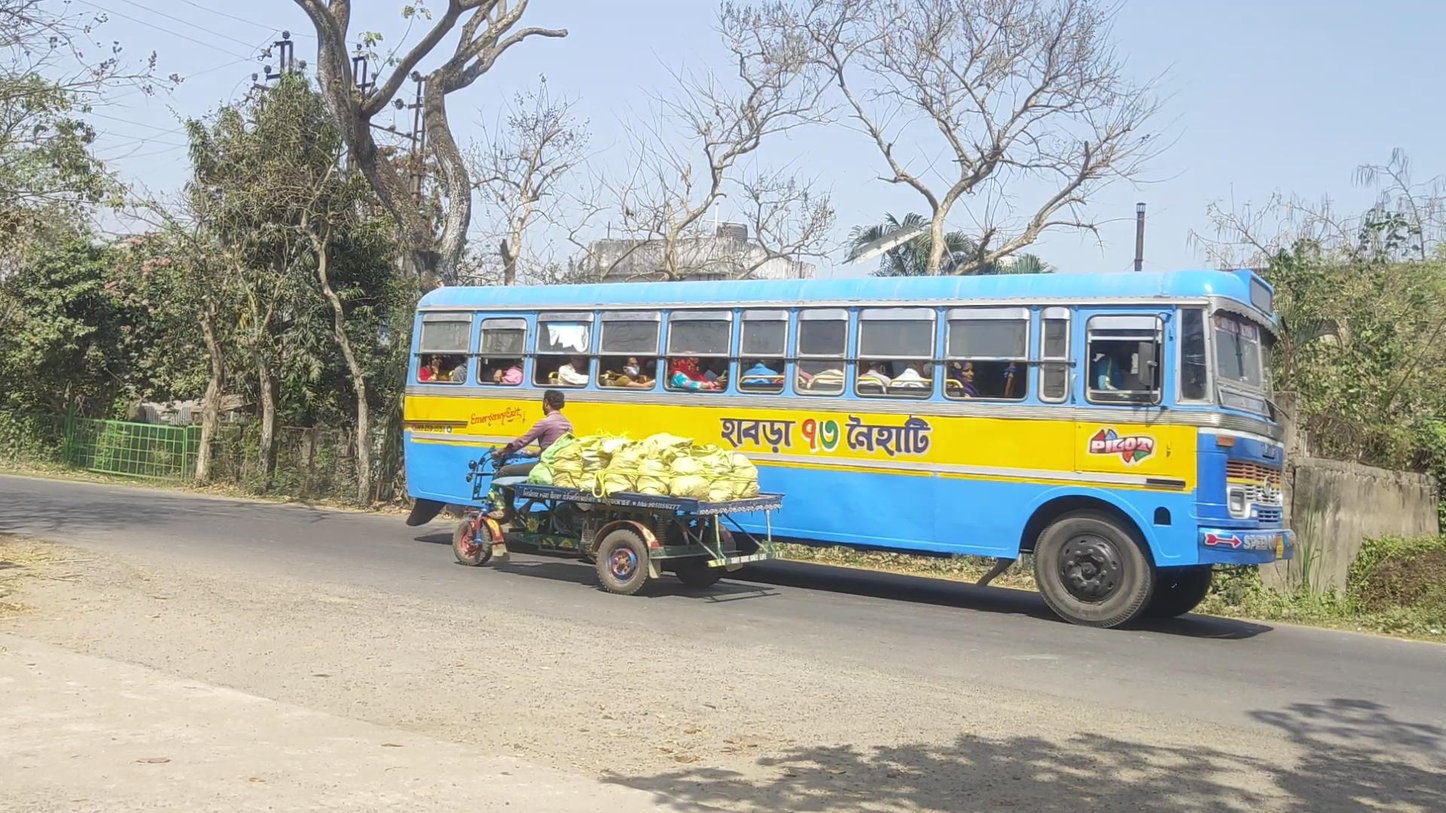Bus: (404, 269, 1296, 628)
